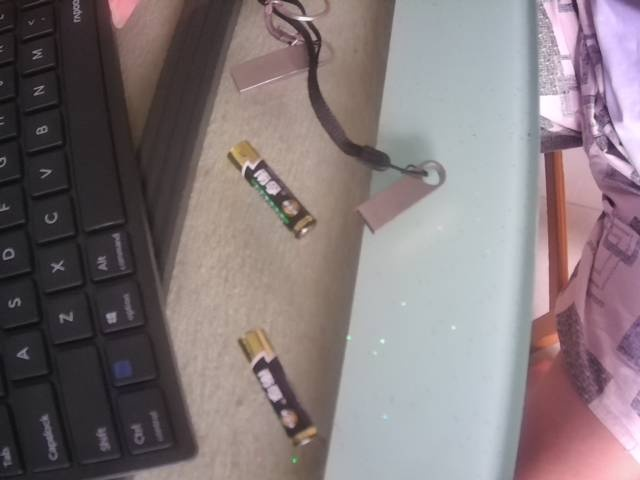U-disk: (350, 156, 451, 238), (224, 35, 351, 96)
battery: (229, 324, 323, 451), (218, 133, 320, 246)
